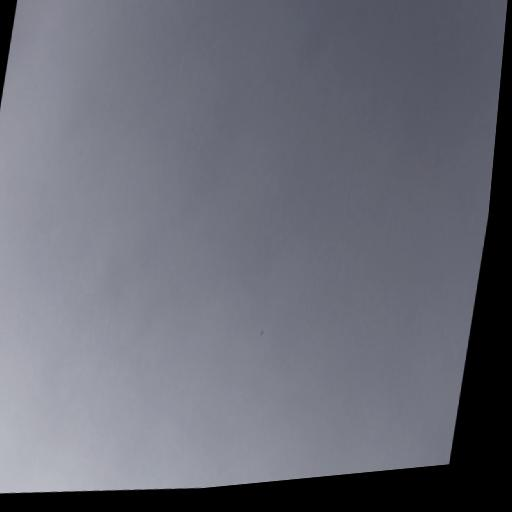drones: (260, 330, 264, 336)
